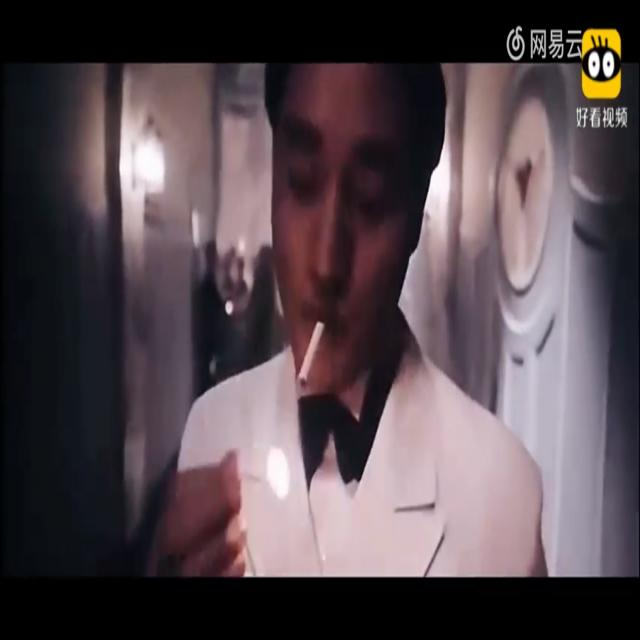smoke: (293, 320, 327, 391)
